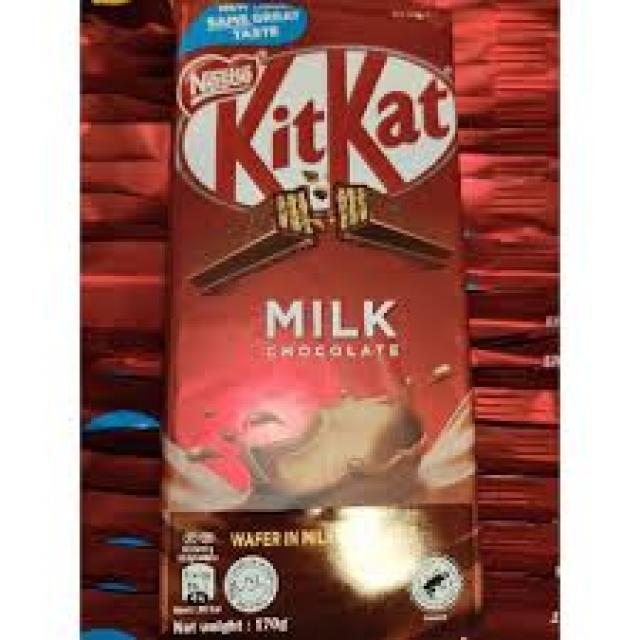kitkat: (171, 2, 482, 630)
